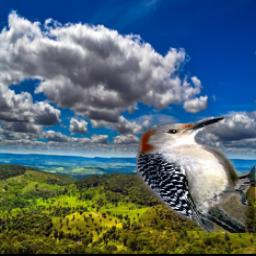Woodpecker: (137, 116, 256, 233)
